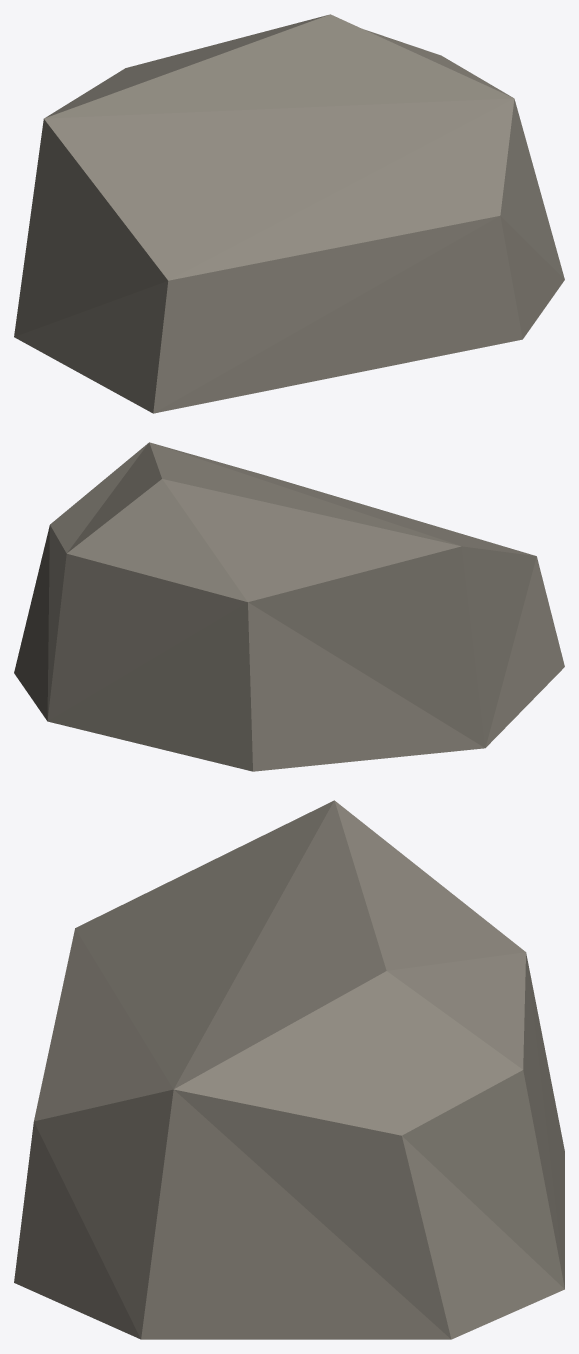
File: TB_D_Env_StoneA_A.FBX
3 views of the same model, one above another, from view 1: azimuth 30°, elevation 25°; view 2: azimuth 150°, elevation 25°; view 3: azimuth 270°, elevation 25° (orthographic). The views are drawn at different scales.
Visible parts, largest first — view 1: TB_D_Env_StoneA_A; view 2: TB_D_Env_StoneA_A; view 3: TB_D_Env_StoneA_A.
Part boxes in pixels (x1,y1,x2,y2): TB_D_Env_StoneA_A: [14, 14, 564, 413]; TB_D_Env_StoneA_A: [14, 442, 564, 771]; TB_D_Env_StoneA_A: [14, 800, 564, 1339].
Size of the model in its own units: 0.6569 by 0.3022 by 0.5293.
